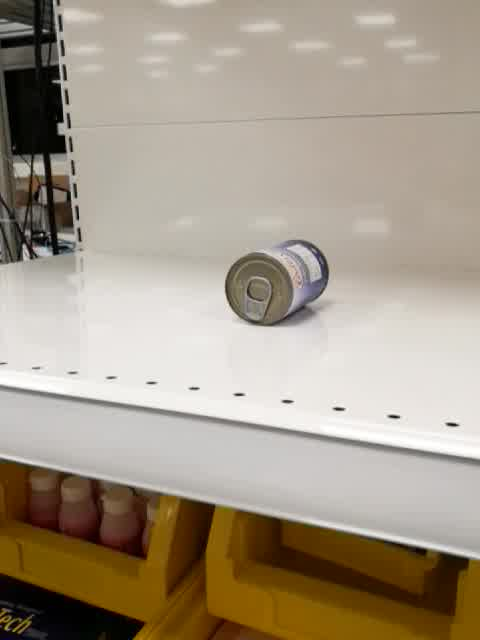sardine: (224, 239, 330, 328)
